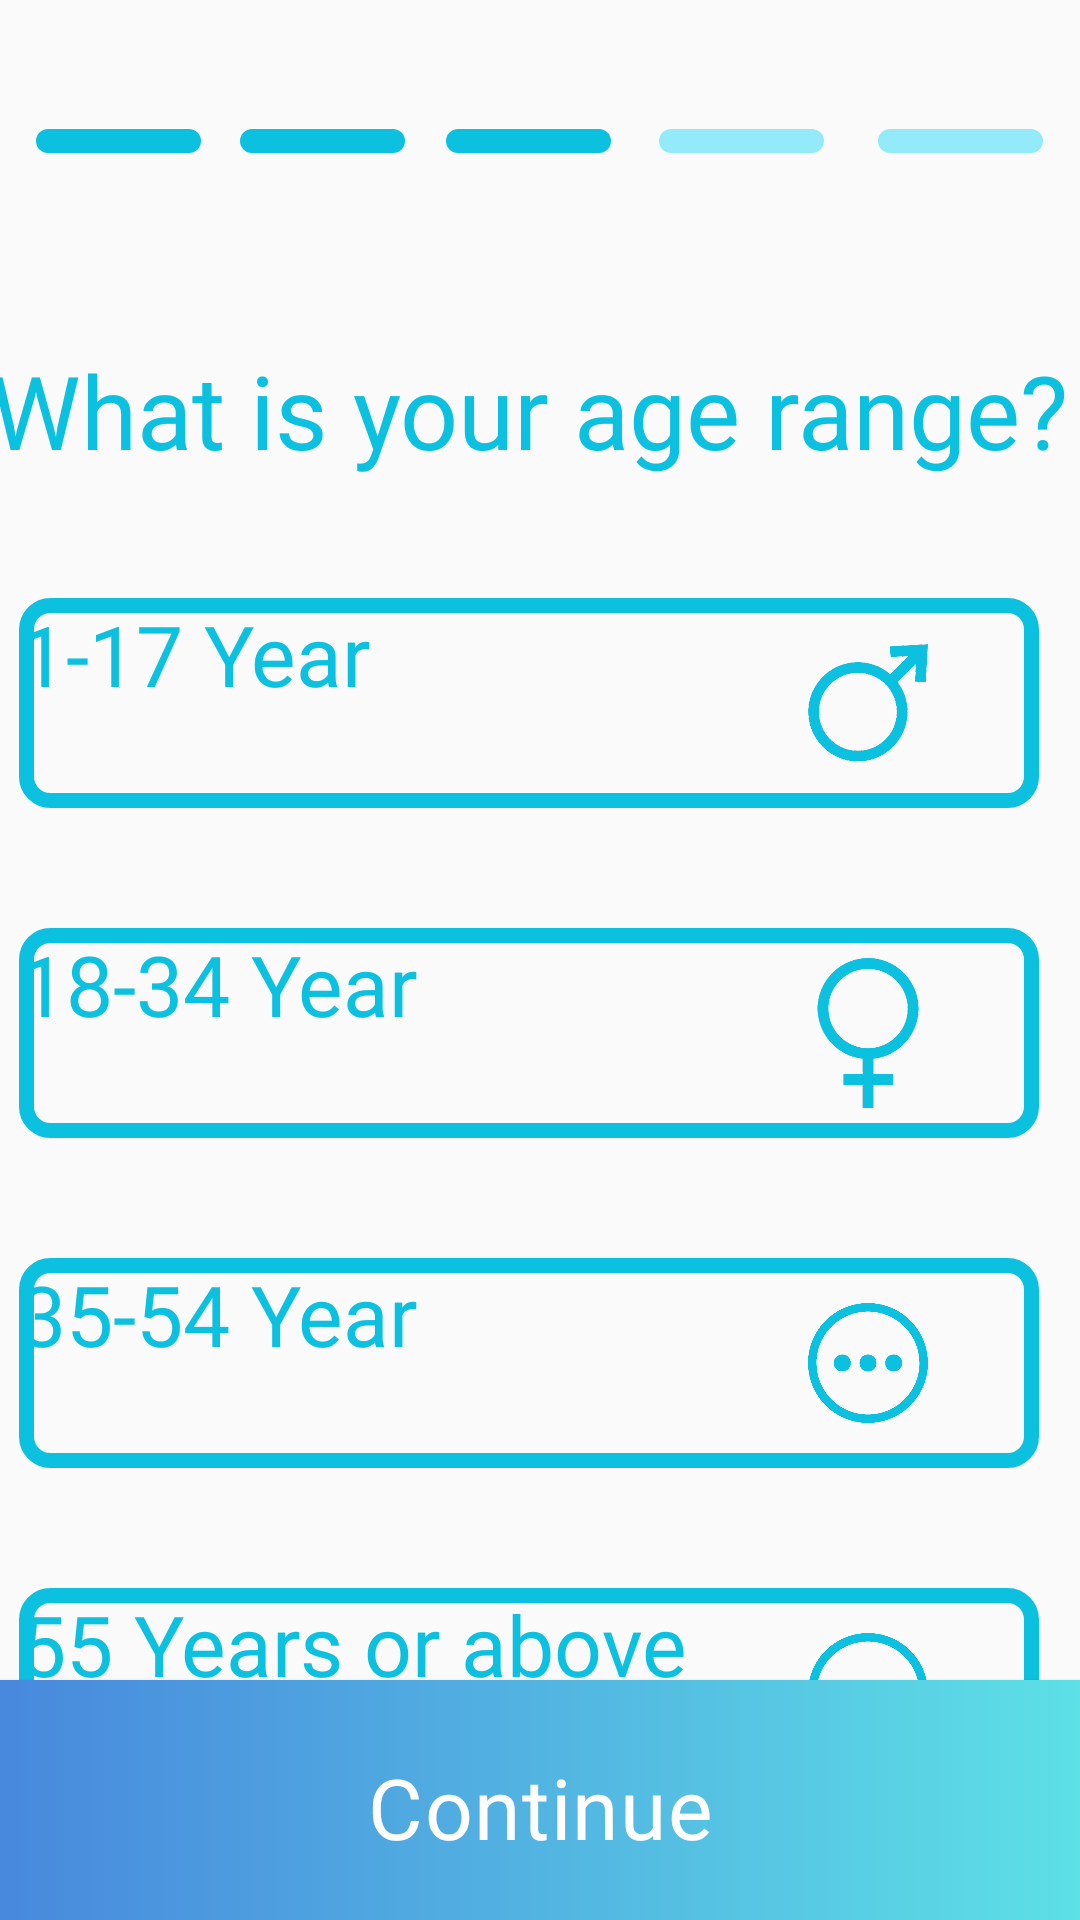

Icon click points for this 1080 x 1920 phone screenshot, format point (x, y):
female: point (868, 1033)
male: point (868, 703)
